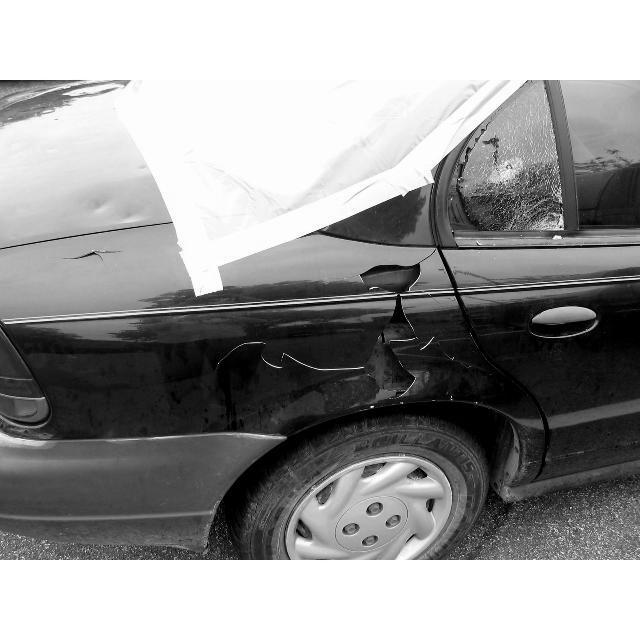quaterpanel-dent: (79, 257, 473, 418)
